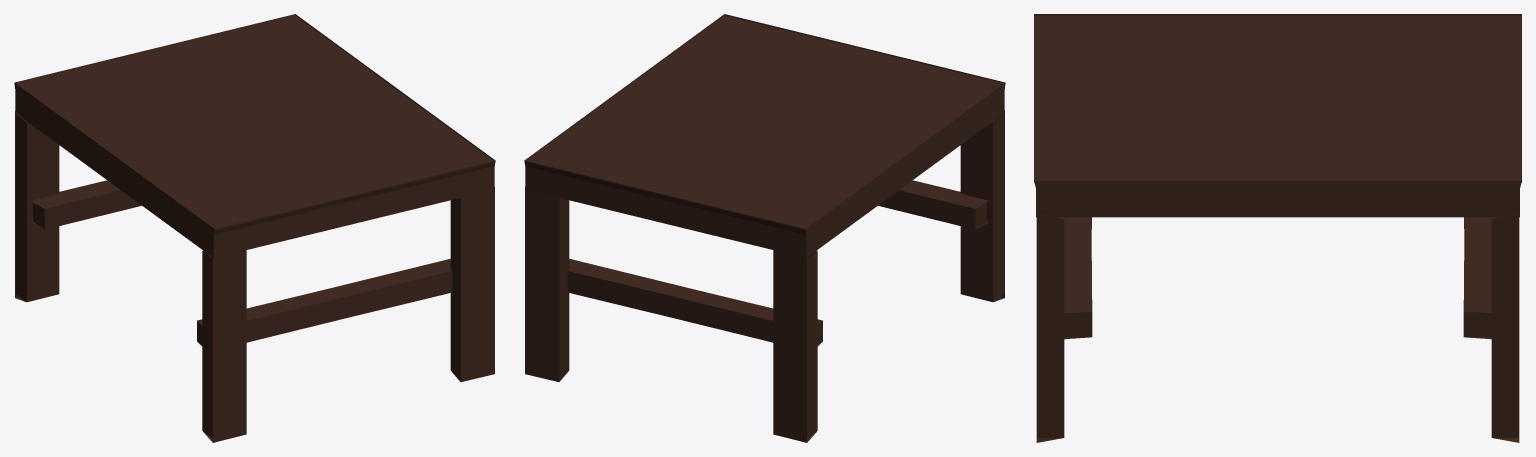
The model's file is mesa 1.fbx.
3 views of the same model, side by side, from view 1: azimuth 30°, elevation 25°; view 2: azimuth 150°, elevation 25°; view 3: azimuth 270°, elevation 25° (orthographic). The views are drawn at different scales.
Parts seen in each view (by area): view 1: Plane, Cube, Cube.001; view 2: Plane, Cube, Cube.001; view 3: Plane, Cube, Cube.001.
Part boxes in pixels (x1,y1,x2,y2): Plane: [14, 14, 495, 257]; Cube: [15, 110, 494, 442]; Cube.001: [31, 180, 452, 346]; Plane: [524, 14, 1005, 257]; Cube: [525, 110, 1004, 442]; Cube.001: [567, 180, 988, 346]; Plane: [1034, 14, 1521, 217]; Cube: [1036, 214, 1519, 442]; Cube.001: [1064, 217, 1491, 339].
Bounding box in the file's own units: 328 × 239 × 403.
